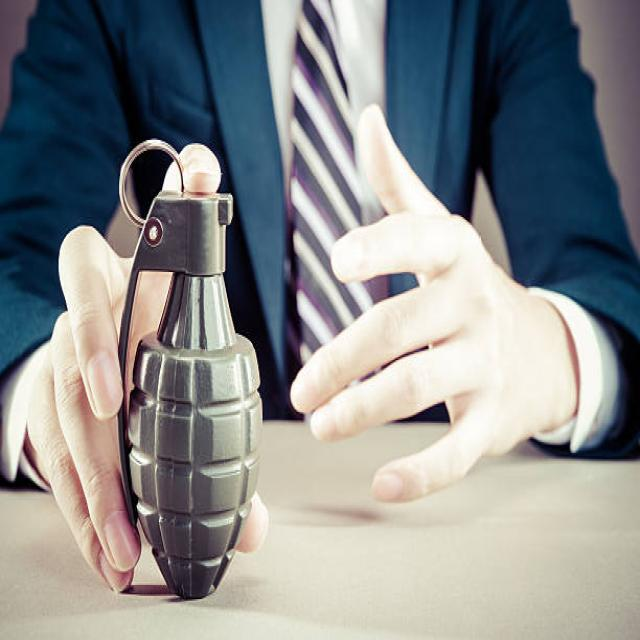grenade: (108, 137, 273, 610)
